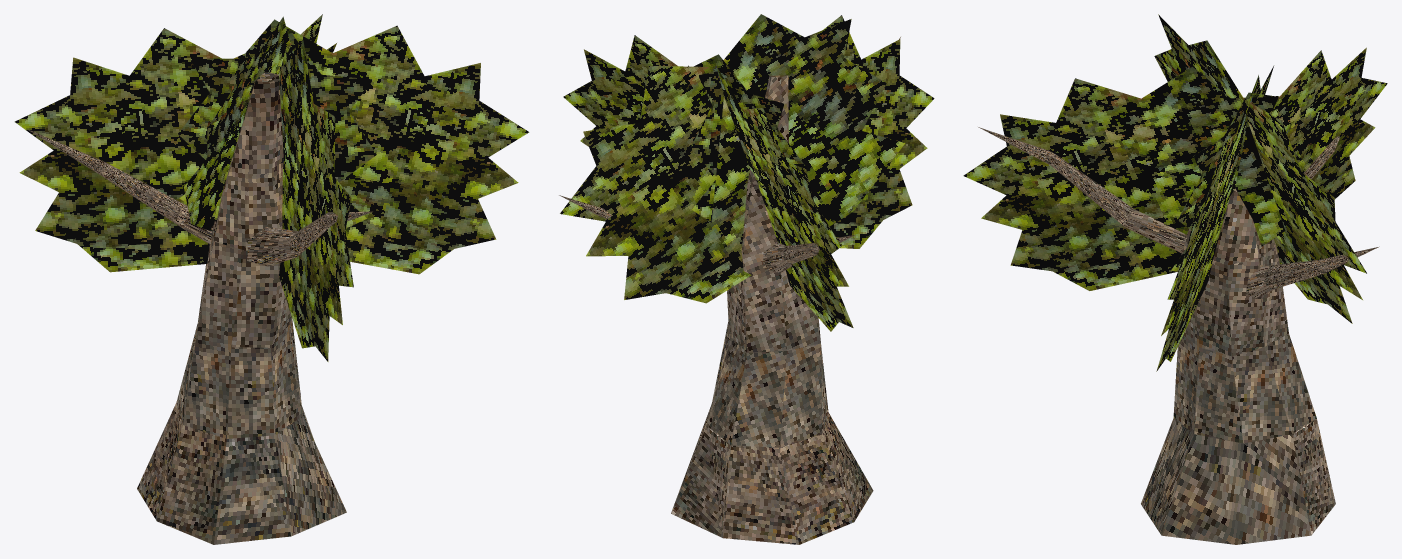
Rendered from model_tree_normal.glb.
3 views of the same model, side by side, from view 1: azimuth 30°, elevation 25°; view 2: azimuth 150°, elevation 25°; view 3: azimuth 270°, elevation 25° (orthographic). The views are drawn at different scales.
Parts seen in each view (by area): view 1: leaves, trunk; view 2: leaves, trunk; view 3: leaves, trunk.
Boxes of the visible parts, <box> form: leaves: <box>14,14,529,361</box>; trunk: <box>27,72,372,544</box>; leaves: <box>560,14,934,331</box>; trunk: <box>559,37,900,544</box>; leaves: <box>963,14,1387,371</box>; trunk: <box>978,127,1379,544</box>.
Size of the model in its own units: 3.69 by 4.27 by 3.45.
Materials: 2 (2 with a texture image).
